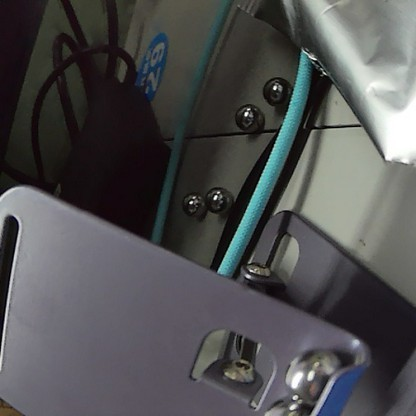ironball: (273, 340, 351, 402), (256, 71, 298, 112), (234, 100, 262, 136), (197, 183, 228, 213), (180, 190, 207, 215)
